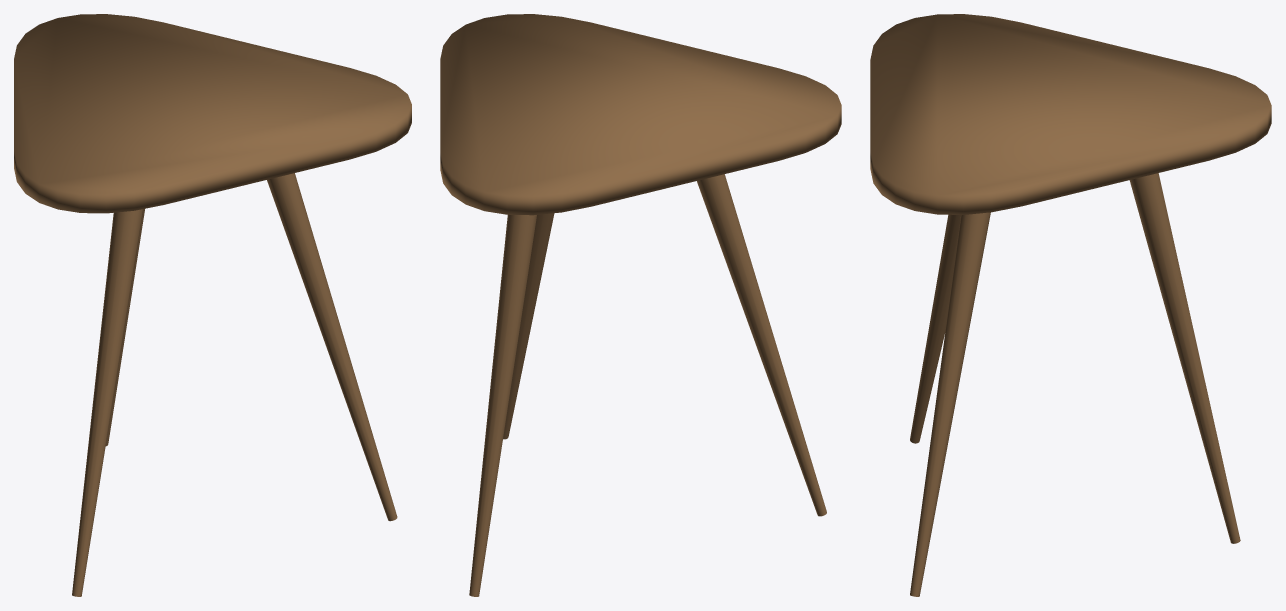
File: Small_Table.glb
3 renders of one model, left to right at view 1: azimuth 30°, elevation 25°; view 2: azimuth 150°, elevation 25°; view 3: azimuth 270°, elevation 25°, orthographic.
Visible parts, largest first — view 1: Circle.003; view 2: Circle.003; view 3: Circle.003.
Part boxes in pixels (bbox=[...]): Circle.003: bbox=[14, 14, 411, 596]; Circle.003: bbox=[440, 14, 841, 596]; Circle.003: bbox=[870, 14, 1271, 596].
Size of the model in its own units: 0.6538 by 0.7093 by 0.6083.
